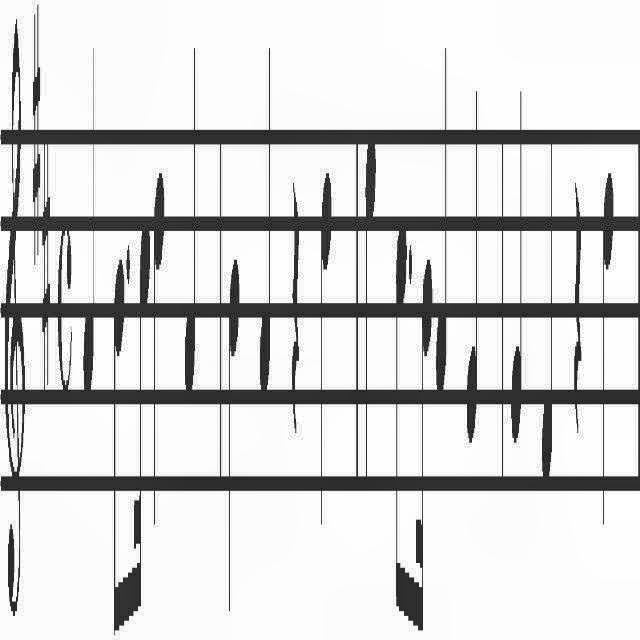Bass-clef: (6, 10, 27, 622)
Diez: (41, 141, 50, 385), (32, 6, 40, 258)
Eighth-note: (112, 244, 126, 636), (394, 210, 406, 626)
Quarter-note: (363, 134, 377, 518), (227, 251, 241, 633), (184, 38, 198, 416), (259, 35, 273, 413), (600, 165, 614, 543), (320, 148, 332, 550), (153, 158, 165, 536), (510, 72, 522, 448), (541, 120, 553, 492), (82, 44, 94, 406), (436, 44, 448, 406), (466, 79, 478, 437)
Quarter-rest: (573, 168, 583, 444), (292, 178, 300, 430)
Sixteenth-note: (134, 207, 150, 616), (416, 258, 432, 630)
